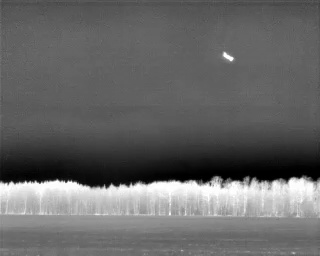DRONE: (217, 47, 239, 68)
